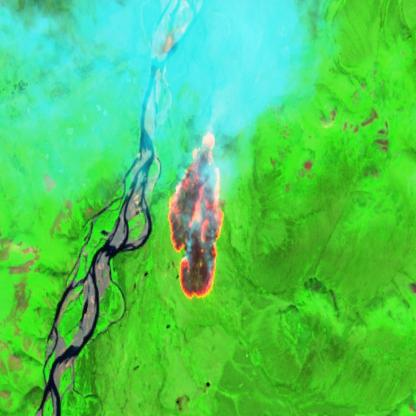fire: (166, 128, 228, 306)
